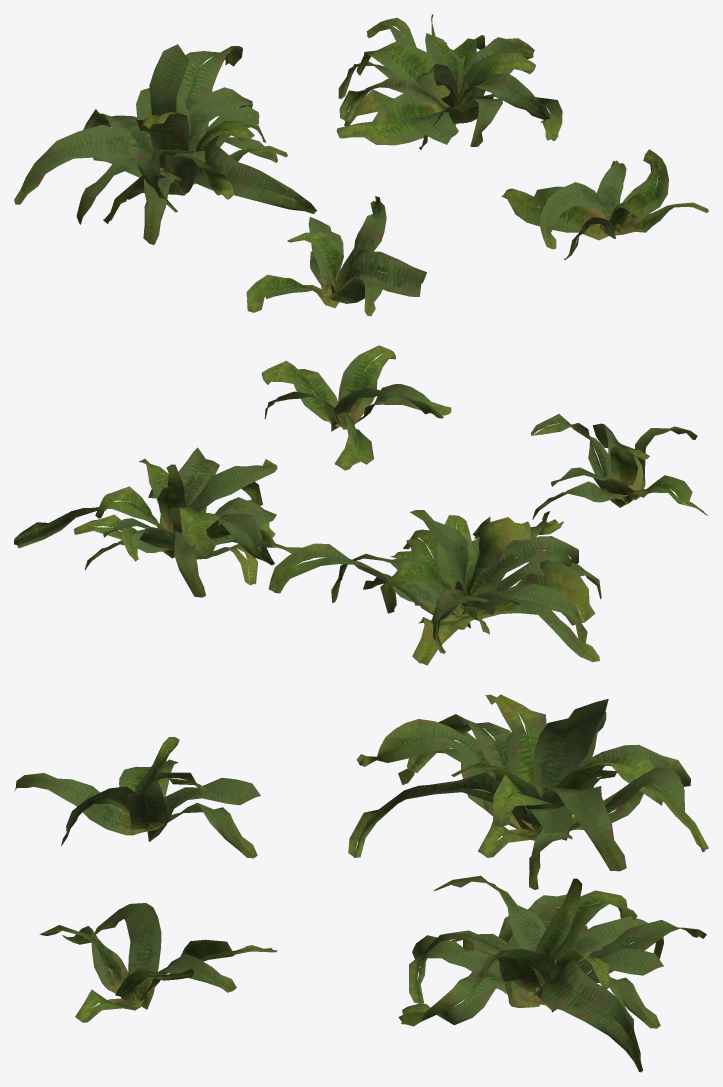
The model's file is fern.glb.
The picture shows the model from 3 angles, top to bottom: view 1: azimuth 30°, elevation 25°; view 2: azimuth 150°, elevation 25°; view 3: azimuth 270°, elevation 25°; orthographic projection. The views are drawn at different scales.
Parts seen in each view (by area): view 1: fern_02_b; view 2: fern_02_b; view 3: fern_02_b.
Boxes of the visible parts, <box> form: fern_02_b: <box>14,14,708,316</box>; fern_02_b: <box>14,345,708,665</box>; fern_02_b: <box>14,694,708,1072</box>.
Size of the model in its own units: 1.97 by 0.4259 by 1.72.
Materials: 1 (1 with a texture image).
